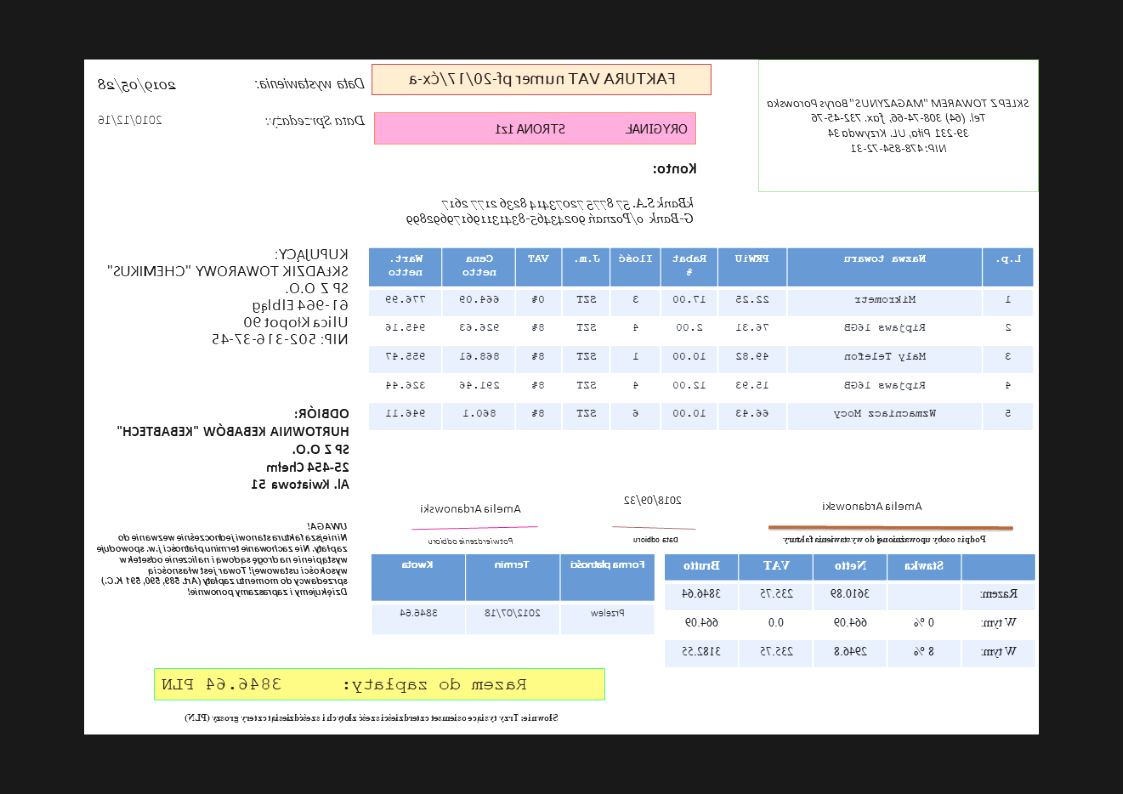Table: (367, 246, 1036, 432), (665, 552, 1037, 668), (371, 553, 656, 636)
TextBox: (105, 245, 352, 348), (114, 404, 351, 492), (94, 519, 350, 598), (765, 95, 1031, 155), (403, 195, 696, 228), (161, 676, 529, 694), (406, 69, 678, 88), (184, 711, 560, 724), (493, 121, 689, 137), (783, 532, 989, 546), (254, 73, 366, 94), (264, 112, 367, 129), (96, 76, 179, 94), (821, 499, 924, 513), (419, 502, 523, 514), (426, 535, 516, 547), (97, 112, 164, 127), (623, 493, 683, 508), (653, 160, 699, 177), (633, 534, 681, 545)
